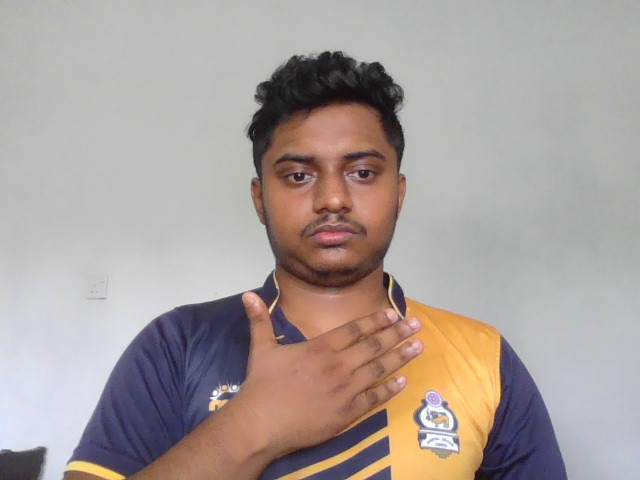Please: (237, 287, 422, 450)
